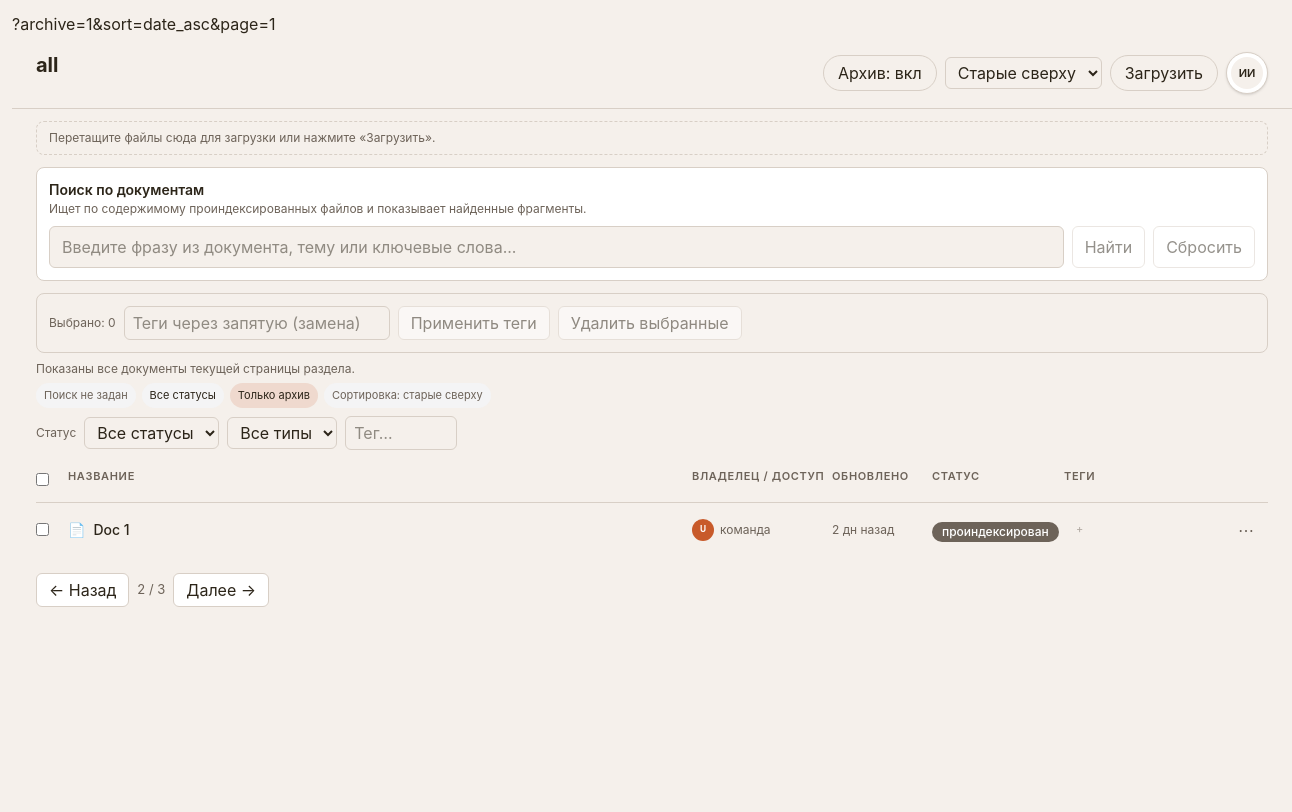
Scenario: syncs query params for sort/archive/page from URL and UI actions
Check: the text "Doc 1" is shown, box [94,520,130,540]
Check: the text with test id "location-search" reads "?archive=1&sort=date_asc&page=1", box [12,14,276,34]
Click the button "Архив: вкл" at [880, 73], box [823,55,937,91]
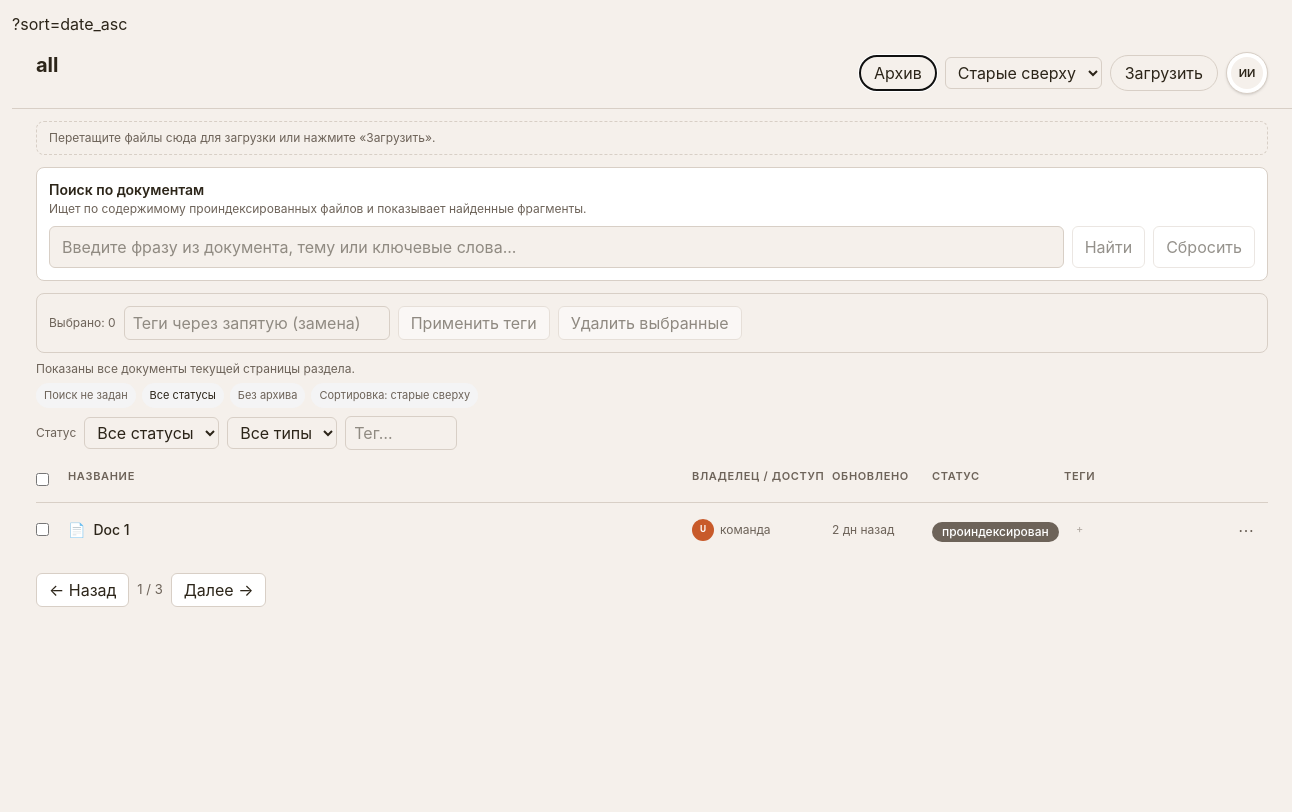
Check: the text with test id "location-search" reads "?sort=date_asc", box [12,14,127,34]
Select "Новые сверху" in the dropdown named "Сортировка" at [1023, 73], box [945,57,1102,89]
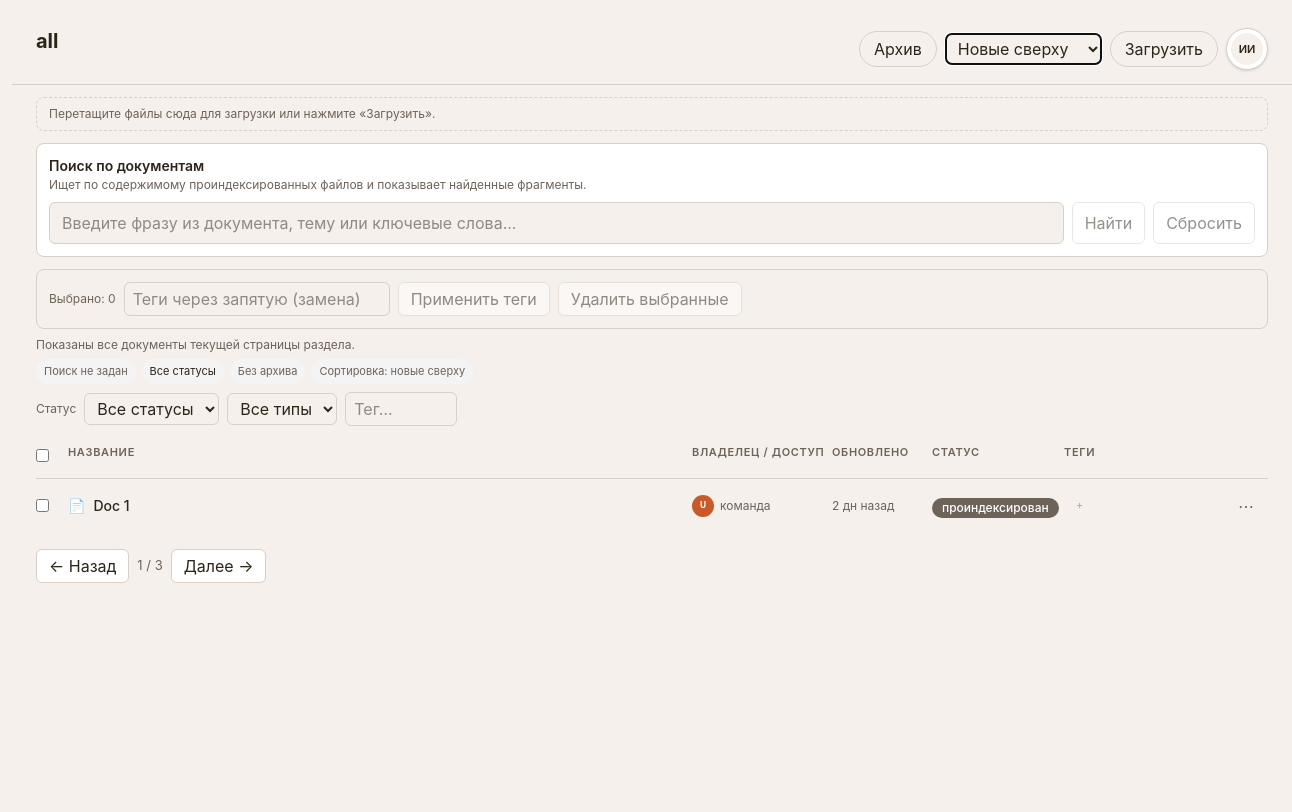
Click the button "Далее →" at [219, 566], box [171,548,266,582]
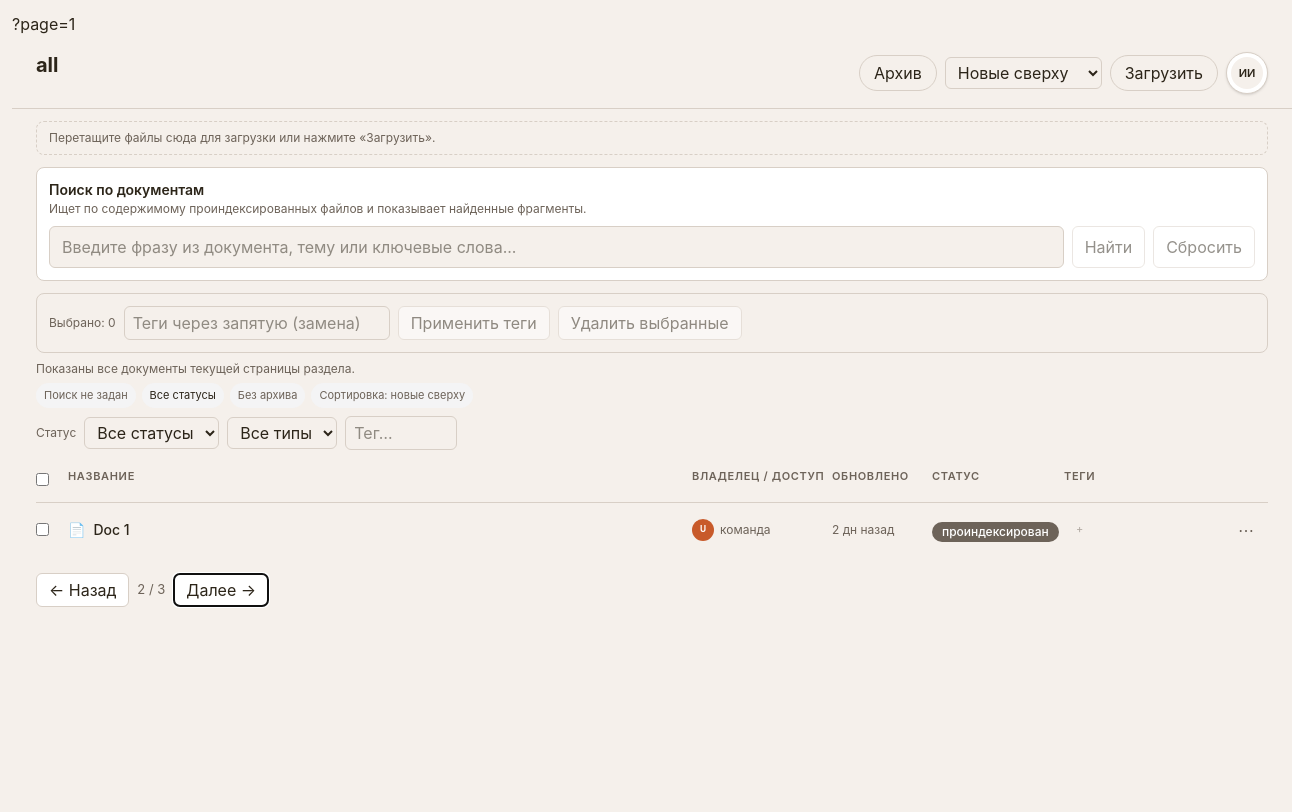
Check: the text with test id "location-search" reads "?page=1", box [12,14,75,34]
